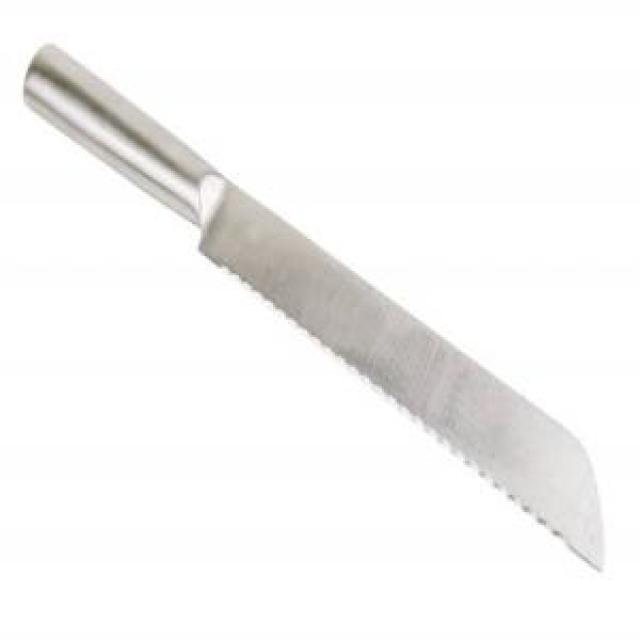knife: (13, 38, 609, 576)
